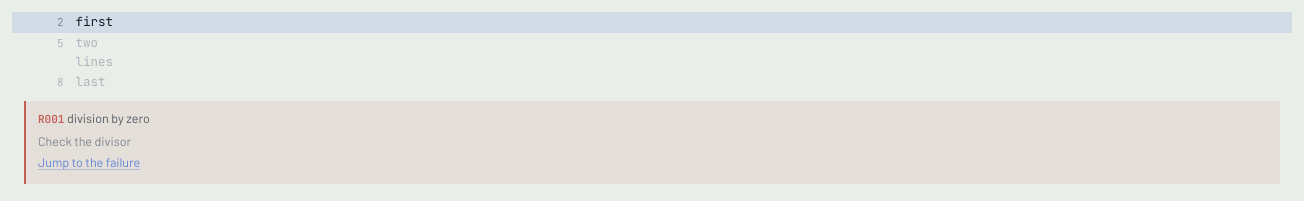
Test case: Console › shows the runtime error with a jump to the failure
expect the element named "Runtime error" shows "Check the divisor": met, box [38, 133, 131, 149]
Click the button "Jump to the failure": (89, 163) [38, 150, 140, 176]
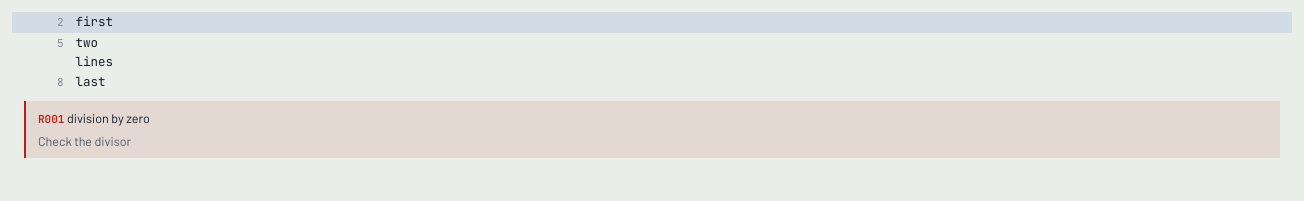
expect the button "Jump to the failure" is gone: met
